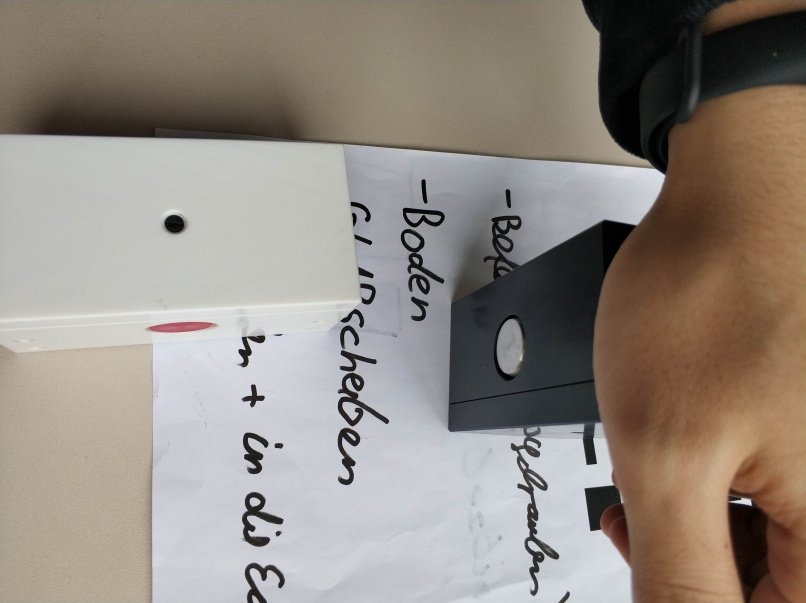black+black+silver: (446, 217, 642, 435)
white+white+red: (1, 130, 367, 357)
